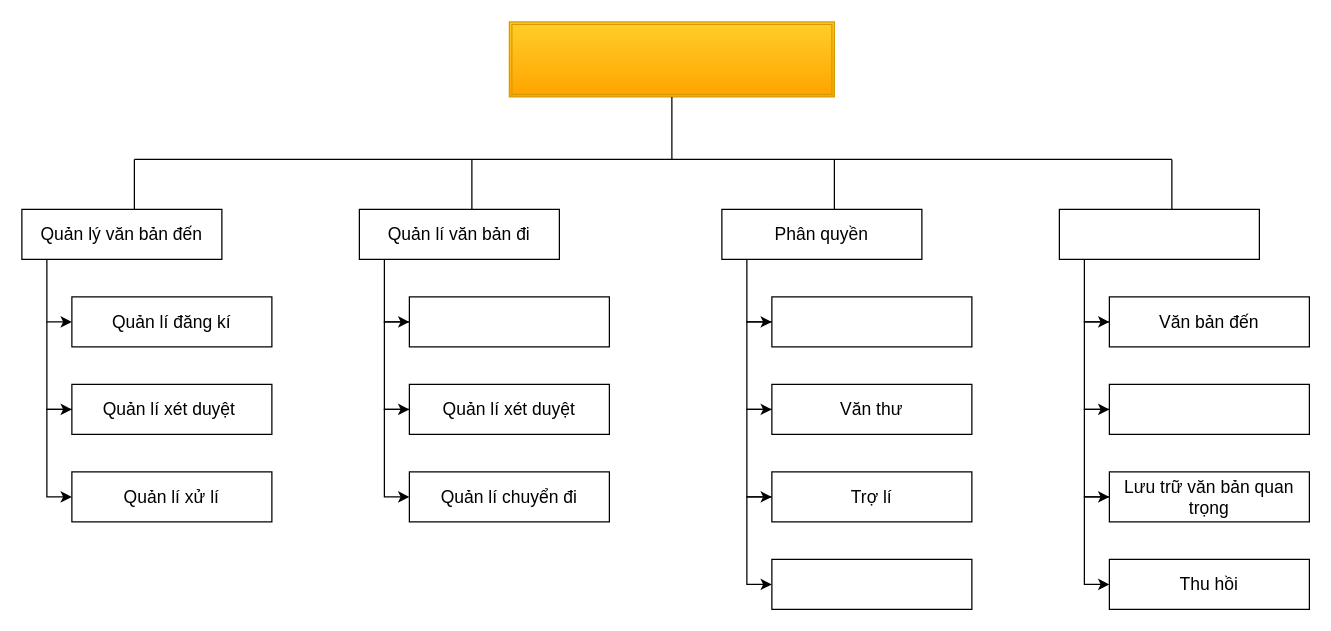
Some shapes in this 1331 by 631 pixel diagram are drawn without their labels. The box of each missing label's shape, as (x1, y1, x2, y2) in pixels:
Lãnh đạo: (771, 296, 972, 347)
Quản lí dự thảo: (408, 296, 609, 347)
Quản lí thống kê: (1058, 208, 1259, 259)
QUẢN LÝ VĂN BẢN CẤP TIỂU ĐOÀN: (508, 21, 834, 97)
Văn bản đi: (1108, 383, 1309, 434)
Đơn vị: (771, 558, 972, 609)
